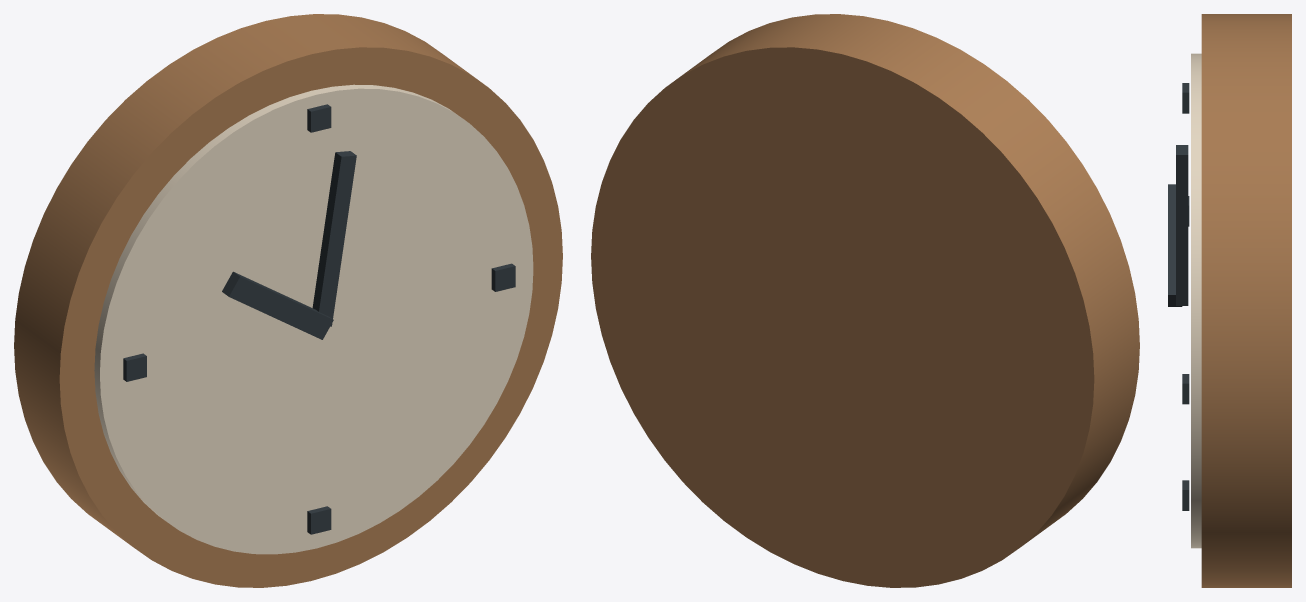
File: wall_clock.glb
3 views of the same model, side by side, from view 1: azimuth 30°, elevation 25°; view 2: azimuth 150°, elevation 25°; view 3: azimuth 270°, elevation 25° (orthographic).
Parts seen in each view (by area): view 1: Clock face, Clock housing, Minute hand, Hour hand; view 2: Clock housing; view 3: Clock housing, Clock face, Minute hand, Hour hand, Hour marker, Hour marker.003, Hour marker.002.
Part boxes in pixels (bbox=[...]): Clock face: bbox=[94, 84, 533, 554]; Clock housing: bbox=[14, 14, 562, 587]; Minute hand: bbox=[312, 151, 356, 326]; Hour hand: bbox=[222, 271, 333, 339]; Clock housing: bbox=[591, 14, 1139, 587]; Clock housing: bbox=[1201, 14, 1291, 587]; Clock face: bbox=[1191, 53, 1201, 548]; Minute hand: bbox=[1176, 145, 1188, 305]; Hour hand: bbox=[1168, 184, 1182, 306]; Hour marker: bbox=[1182, 83, 1189, 113]; Hour marker.003: bbox=[1182, 480, 1189, 510]; Hour marker.002: bbox=[1182, 374, 1189, 404].
Size of the model in its own units: 0.325 by 0.325 by 0.07.
